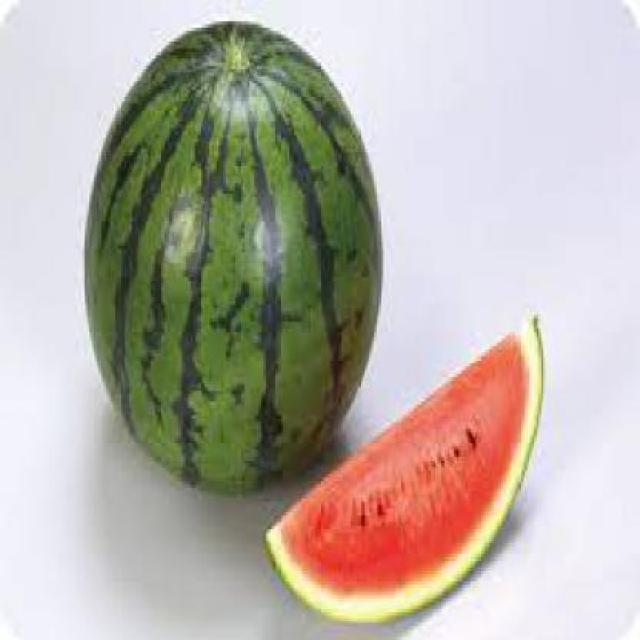BIODEGRADABLE: (80, 21, 382, 494), (263, 315, 542, 622)
